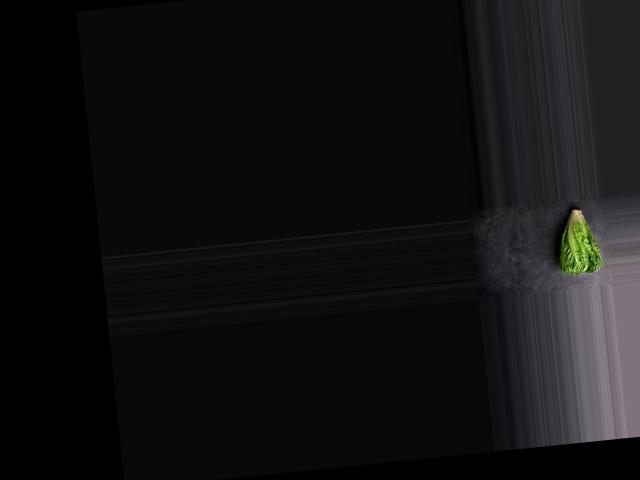lettuce: (551, 202, 604, 276)
